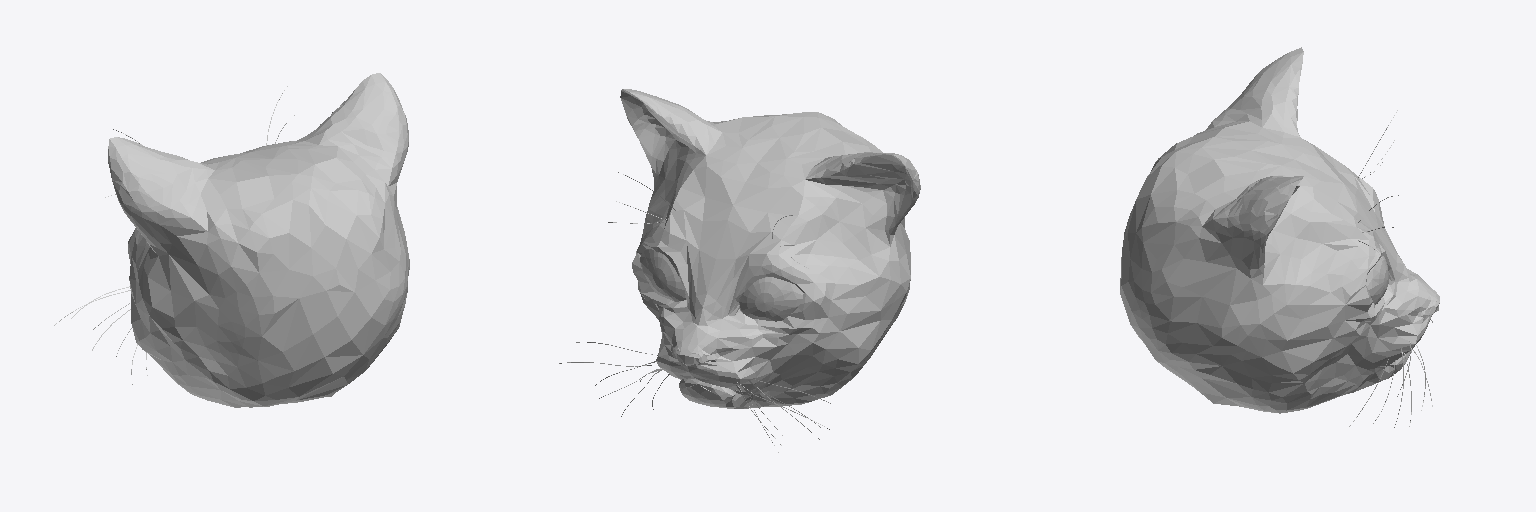
Rendered from bonusE.obj.
The picture shows the model from 3 angles: view 1: azimuth 30°, elevation 25°; view 2: azimuth 150°, elevation 25°; view 3: azimuth 270°, elevation 25°; orthographic projection.
Parts seen in each view (by area): view 1: Object001; view 2: Object001; view 3: Object001.
Boxes of the visible parts, x1=… form: Object001: x1=54, y1=73, x2=409, y2=407; Object001: x1=559, y1=89, x2=920, y2=452; Object001: x1=1120, y1=47, x2=1439, y2=427.
Size of the model in its own units: 5.99 by 5.64 by 5.75.